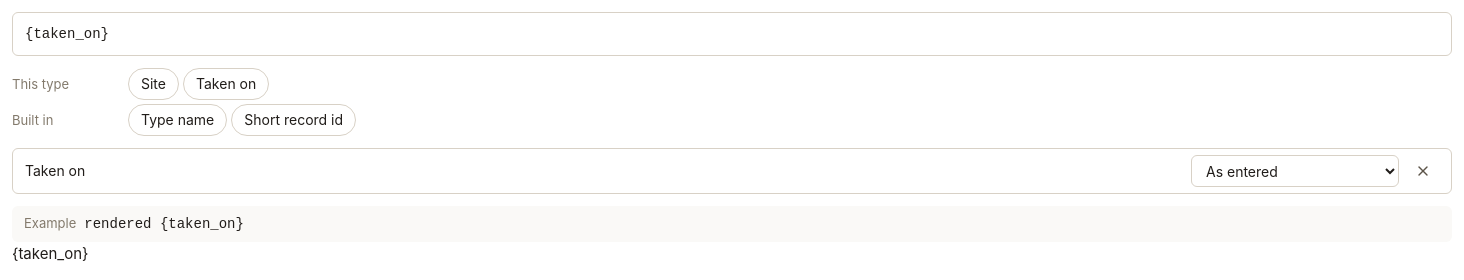
TemplateBuilder › offers formats that suit the type and writes the choice into the template
Select "Year and month (2019-06)" in the dropdown named "Format for taken_on" at point(1295, 171), box 1191,155 -> 1399,187
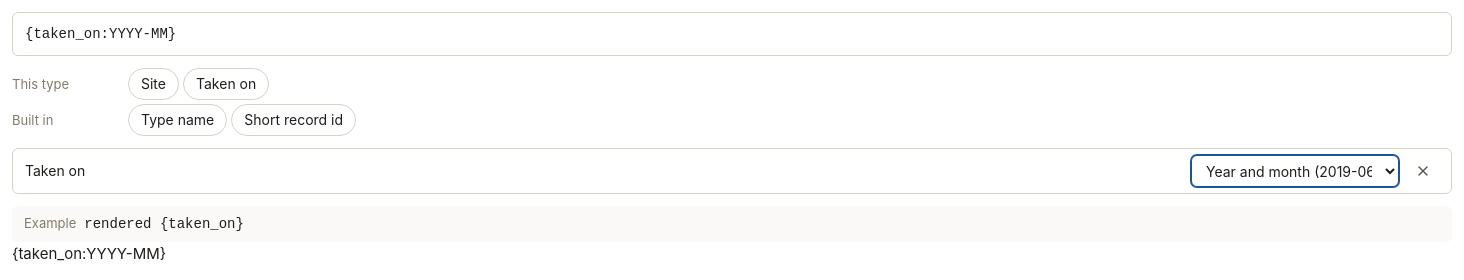
Now the text with test id "value" reads "{taken_on:YYYY-MM}", box 12,244 -> 166,263
